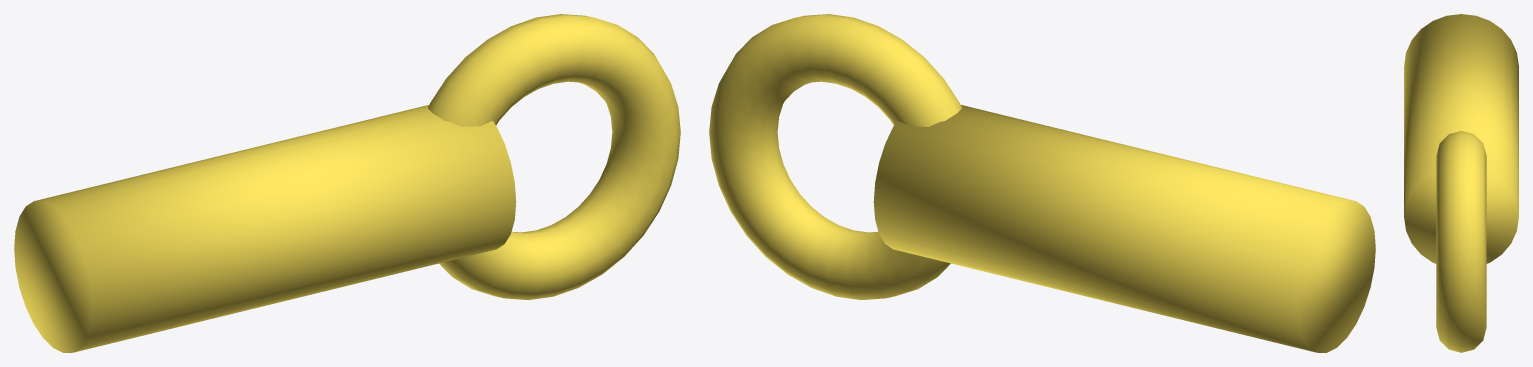
File: Cerrojo.fbx
The picture shows the model from 3 angles, left to right: view 1: azimuth 30°, elevation 25°; view 2: azimuth 150°, elevation 25°; view 3: azimuth 270°, elevation 25°; orthographic projection. The views are drawn at different scales.
Visible parts, largest first — view 1: Cerrojo; view 2: Cerrojo; view 3: Cerrojo.
Part boxes in pixels (left/top/right/bottom): Cerrojo: left=14, top=14, right=680, bottom=352; Cerrojo: left=709, top=14, right=1375, bottom=352; Cerrojo: left=1404, top=14, right=1518, bottom=352.
Size of the model in its own units: 0.735 by 0.31 by 0.16.
